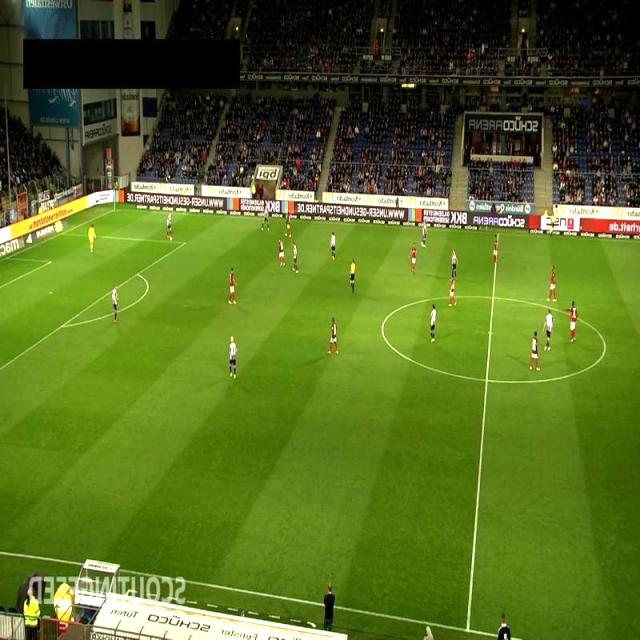bigarea_top_inner: (180, 238, 190, 248)
bigarea_top_outter: (56, 228, 68, 239)
bottom_arc_area_intersection: (57, 321, 68, 332)
corner: (110, 203, 121, 214)
halfcircle_bottom: (481, 373, 494, 388)
halfcircle_top: (486, 290, 500, 306), (0, 95, 11, 106)
midline_bottom_intersection: (459, 622, 475, 638)
midline_top_intersection: (492, 228, 503, 238)
smallarea_top_inner: (44, 256, 55, 266)
smallarea_top_outter: (2, 252, 13, 264)
top_arc_area_intersection: (132, 268, 144, 278)
